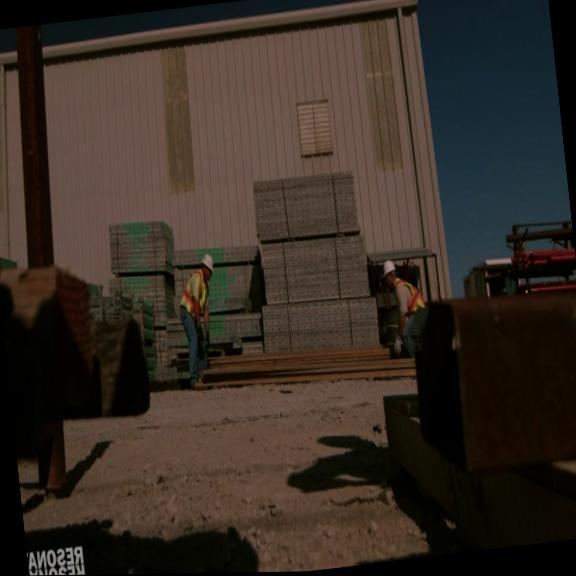safety_vest: (176, 272, 210, 319), (394, 273, 427, 314)
